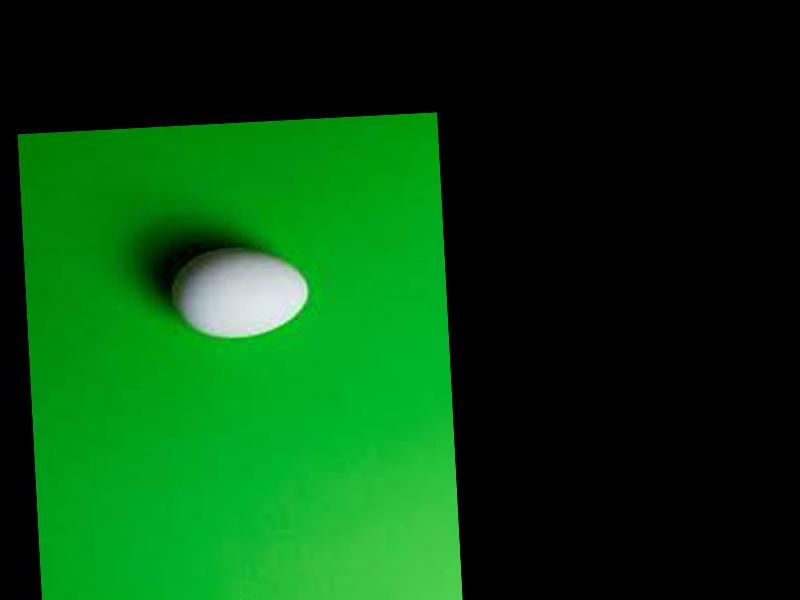Eggs: (169, 244, 311, 339)
